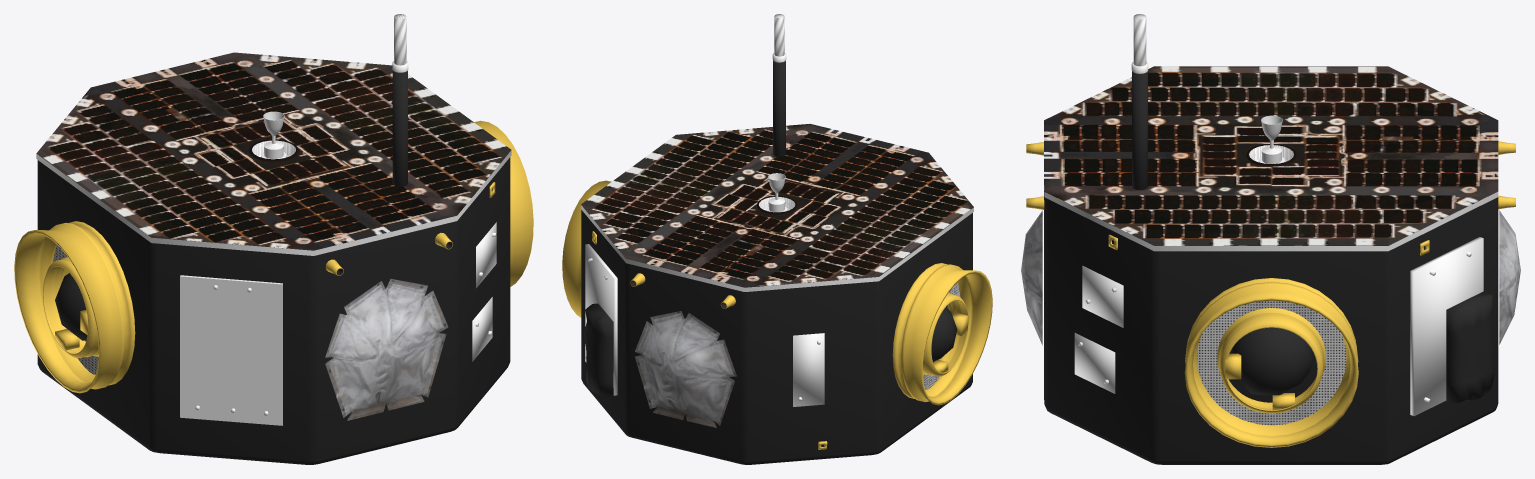
Rendered from IBEX.fbx.
3 views of the same model, side by side, from view 1: azimuth 30°, elevation 25°; view 2: azimuth 150°, elevation 25°; view 3: azimuth 270°, elevation 25° (orthographic). The views are drawn at different scales.
Parts seen in each view (by area): view 1: main_body1, solar_panel1, payload1, payload2, omni_antenna1, thruster1; view 2: main_body1, solar_panel1, payload1, payload2, omni_antenna1, thruster1; view 3: main_body1, solar_panel1, payload2, omni_antenna1, thruster1.
Boxes of the visible parts, x1=… form: main_body1: x1=36, y1=139, x2=511, y2=464; solar_panel1: x1=36, y1=52, x2=511, y2=250; payload1: x1=14, y1=221, x2=135, y2=393; payload2: x1=474, y1=120, x2=533, y2=286; omni_antenna1: x1=392, y1=14, x2=408, y2=231; thruster1: x1=263, y1=111, x2=284, y2=158; main_body1: x1=581, y1=195, x2=973, y2=464; solar_panel1: x1=581, y1=124, x2=973, y2=287; payload1: x1=892, y1=263, x2=992, y2=405; payload2: x1=562, y1=180, x2=611, y2=317; omni_antenna1: x1=772, y1=14, x2=786, y2=156; thruster1: x1=768, y1=173, x2=785, y2=212; main_body1: x1=1021, y1=141, x2=1520, y2=464; solar_panel1: x1=1044, y1=66, x2=1498, y2=245; payload2: x1=1184, y1=278, x2=1358, y2=447; omni_antenna1: x1=1131, y1=14, x2=1148, y2=237; thruster1: x1=1261, y1=115, x2=1282, y2=163.
Size of the model in its own units: 118 by 98.04 by 112.
5 materials, 2 textured.
